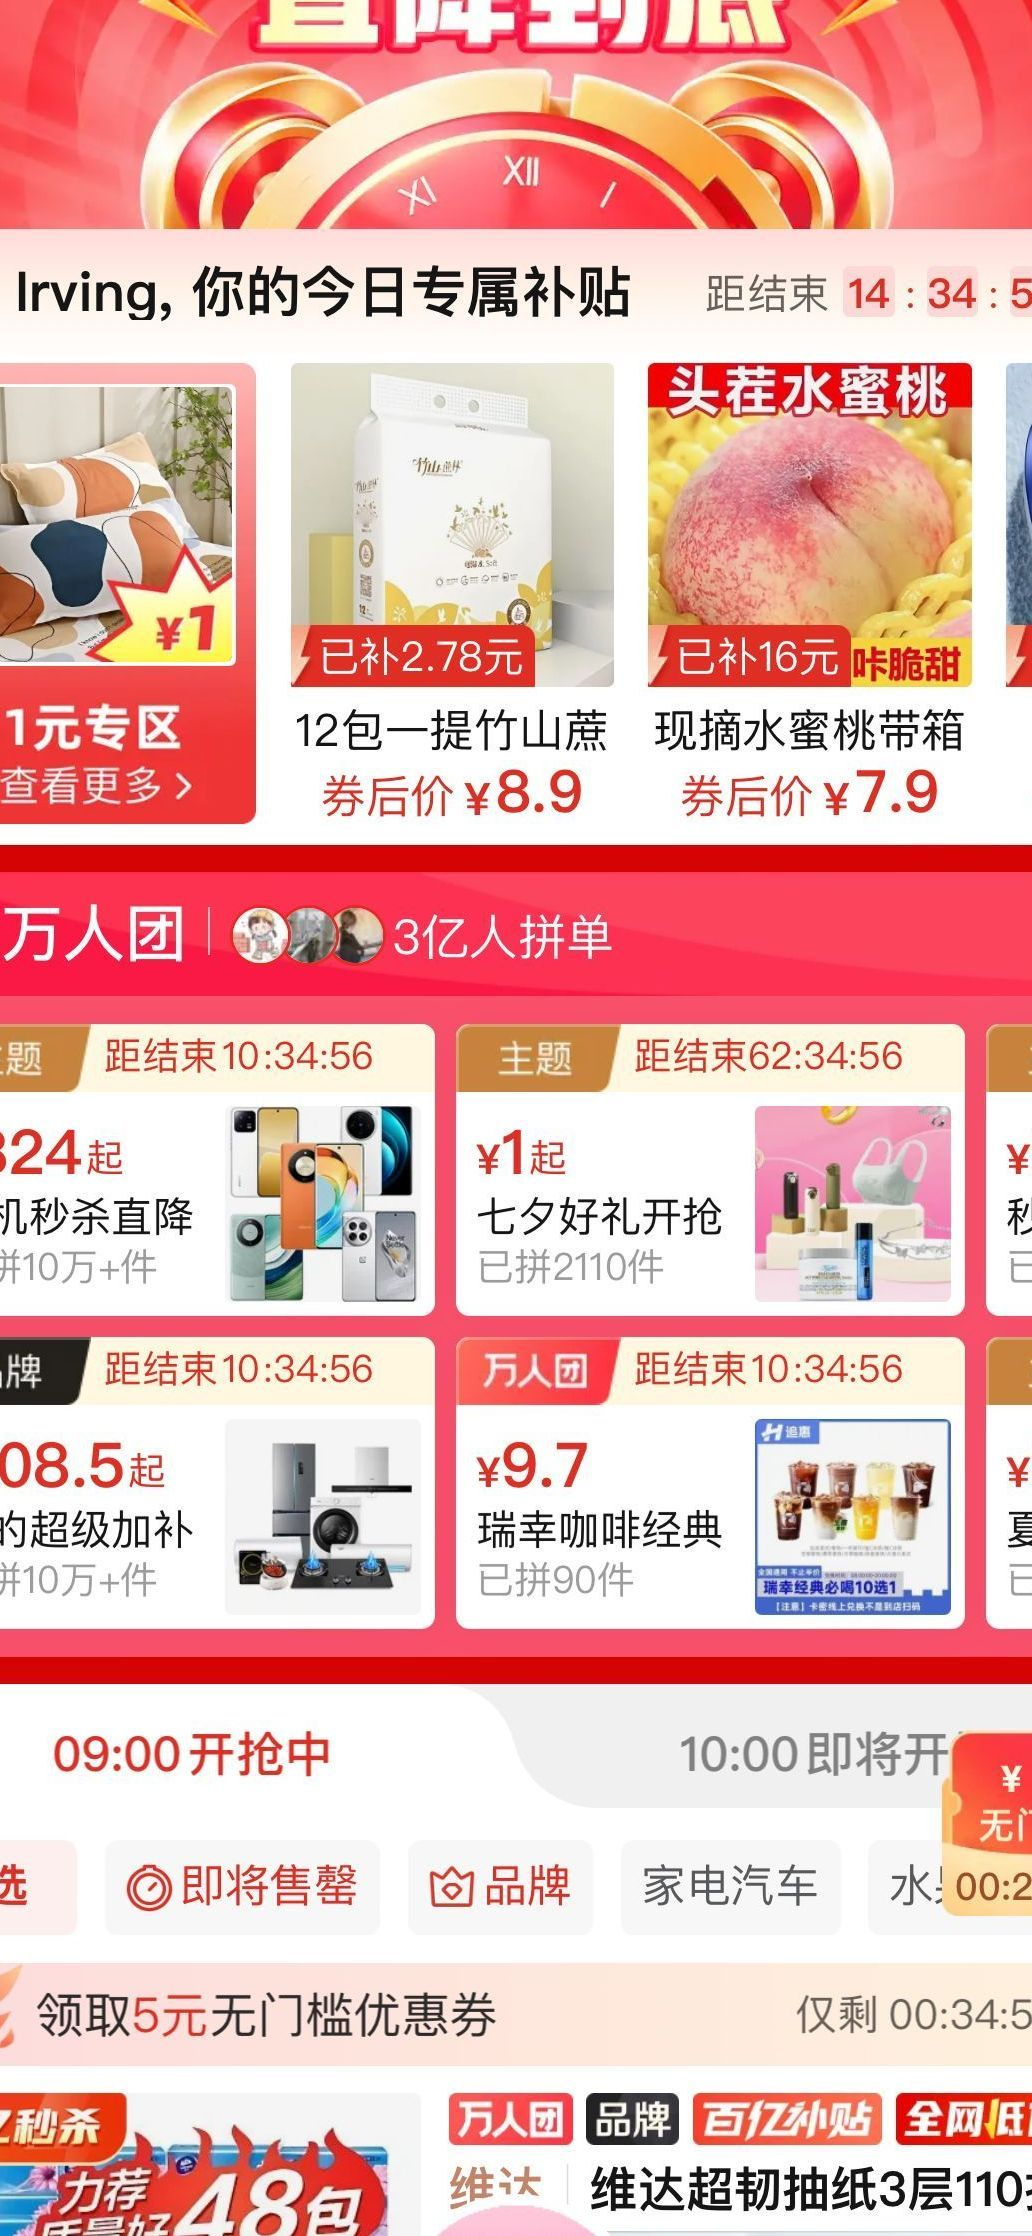banner: (6, 1945, 1032, 2079)
seckill: (6, 863, 1032, 1671), (7, 220, 1031, 851)
